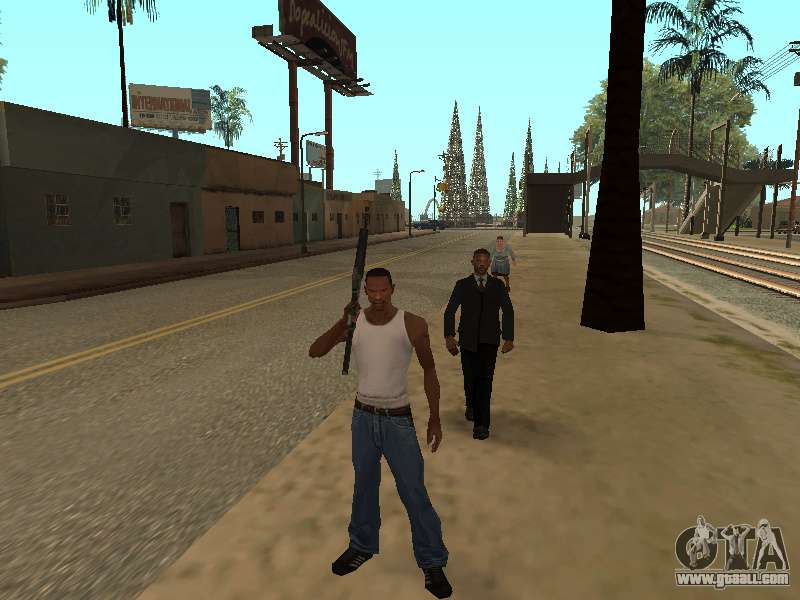person: (338, 267, 455, 597), (447, 250, 507, 441), (487, 237, 517, 307)
